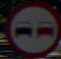No overtake: (4, 5, 56, 52)
